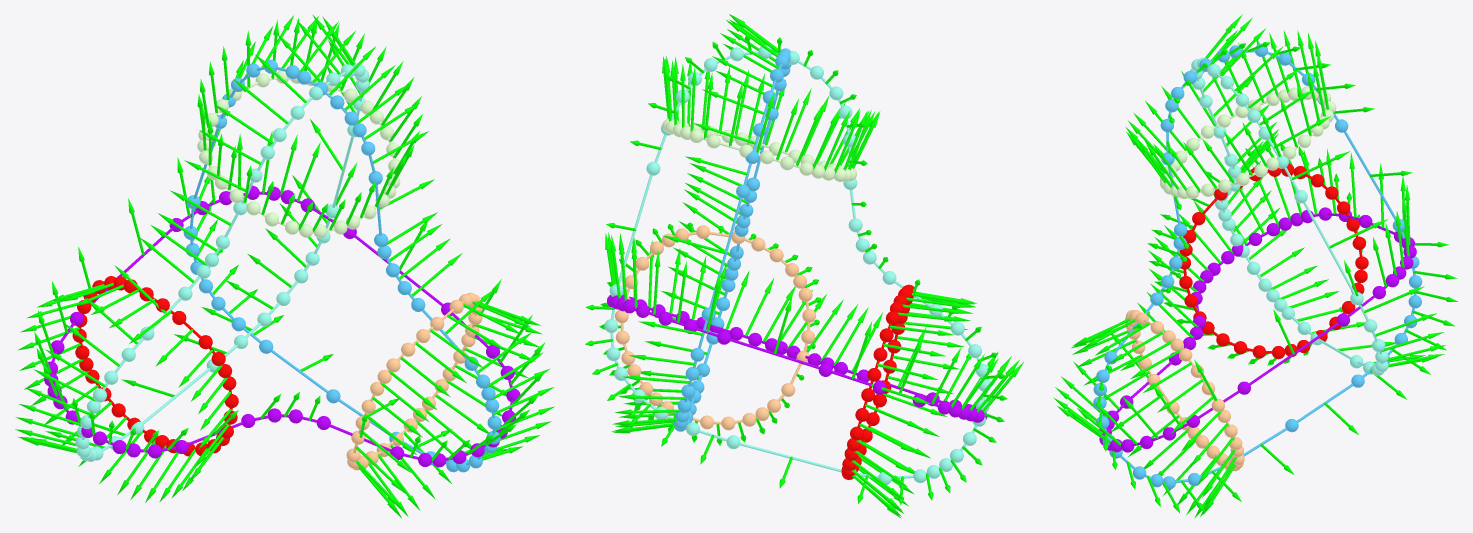
Rendered from flowrep_trebol.gltf.
3 views of the same model, side by side, from view 1: azimuth 30°, elevation 25°; view 2: azimuth 150°, elevation 25°; view 3: azimuth 270°, elevation 25° (orthographic). The views are drawn at different scales.
Bounding box in the file's own units: 0.7511 × 0.7313 × 0.6034.
